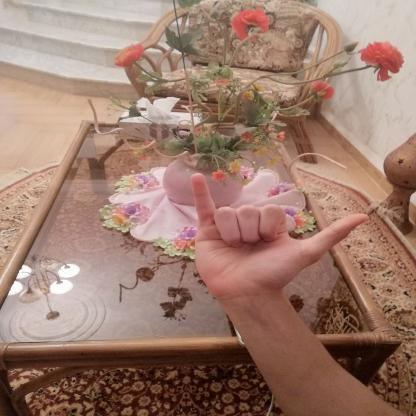YA: (175, 166, 378, 303)
